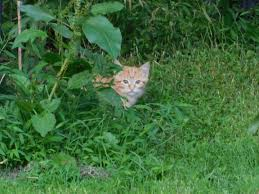cat: (89, 59, 151, 107)
